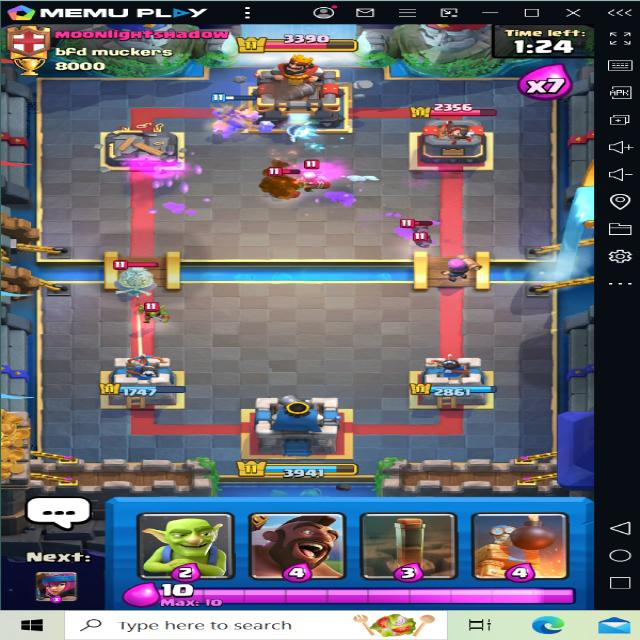Bat: (407, 233, 444, 257), (404, 216, 441, 235)
Goblin: (143, 300, 171, 326)
Monk: (101, 257, 166, 295)
Monkability: (101, 256, 174, 296)
Speargoblin: (266, 162, 308, 193), (292, 155, 329, 189)
